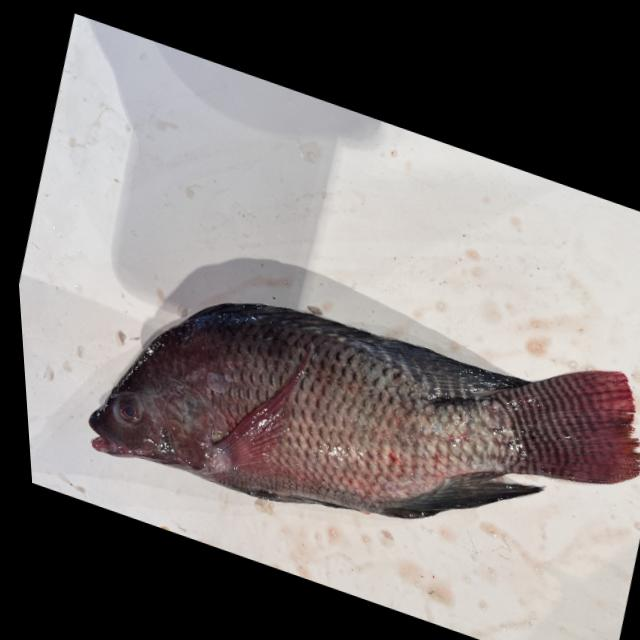Tilapia: (61, 194, 640, 640)
